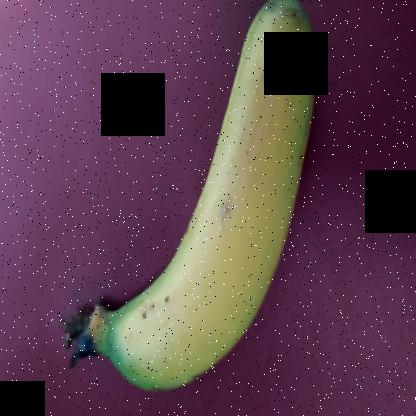freshripe: (102, 0, 316, 393)
